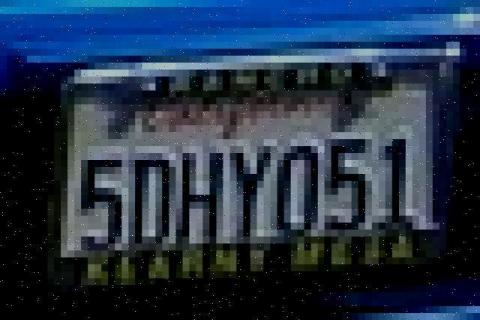LicensePlate: (37, 50, 465, 286)
